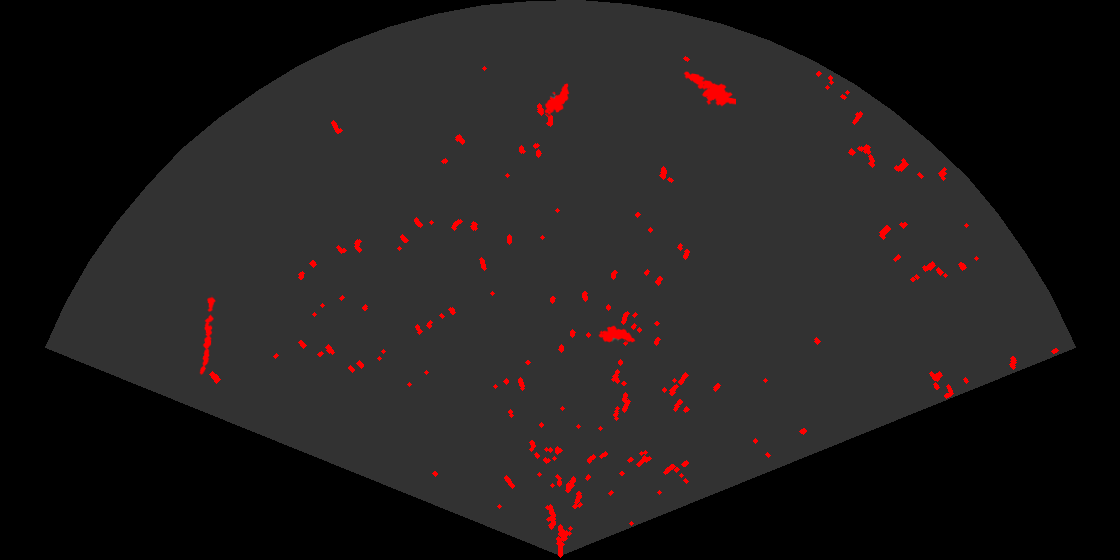AUV: (543, 81, 571, 117), (597, 324, 637, 344)
chain: (198, 295, 217, 376)
frogman: (682, 70, 736, 108)
